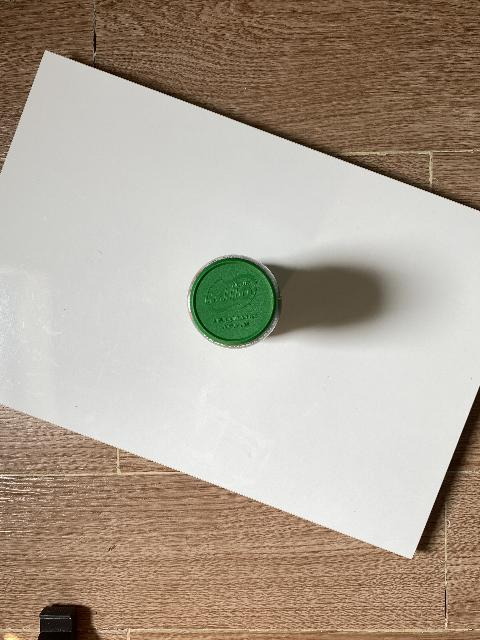milo: (187, 255, 282, 350)
